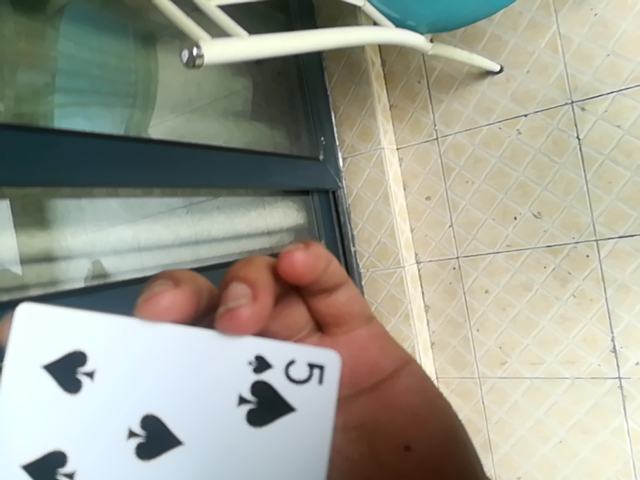ht 5: (0, 300, 349, 480)
